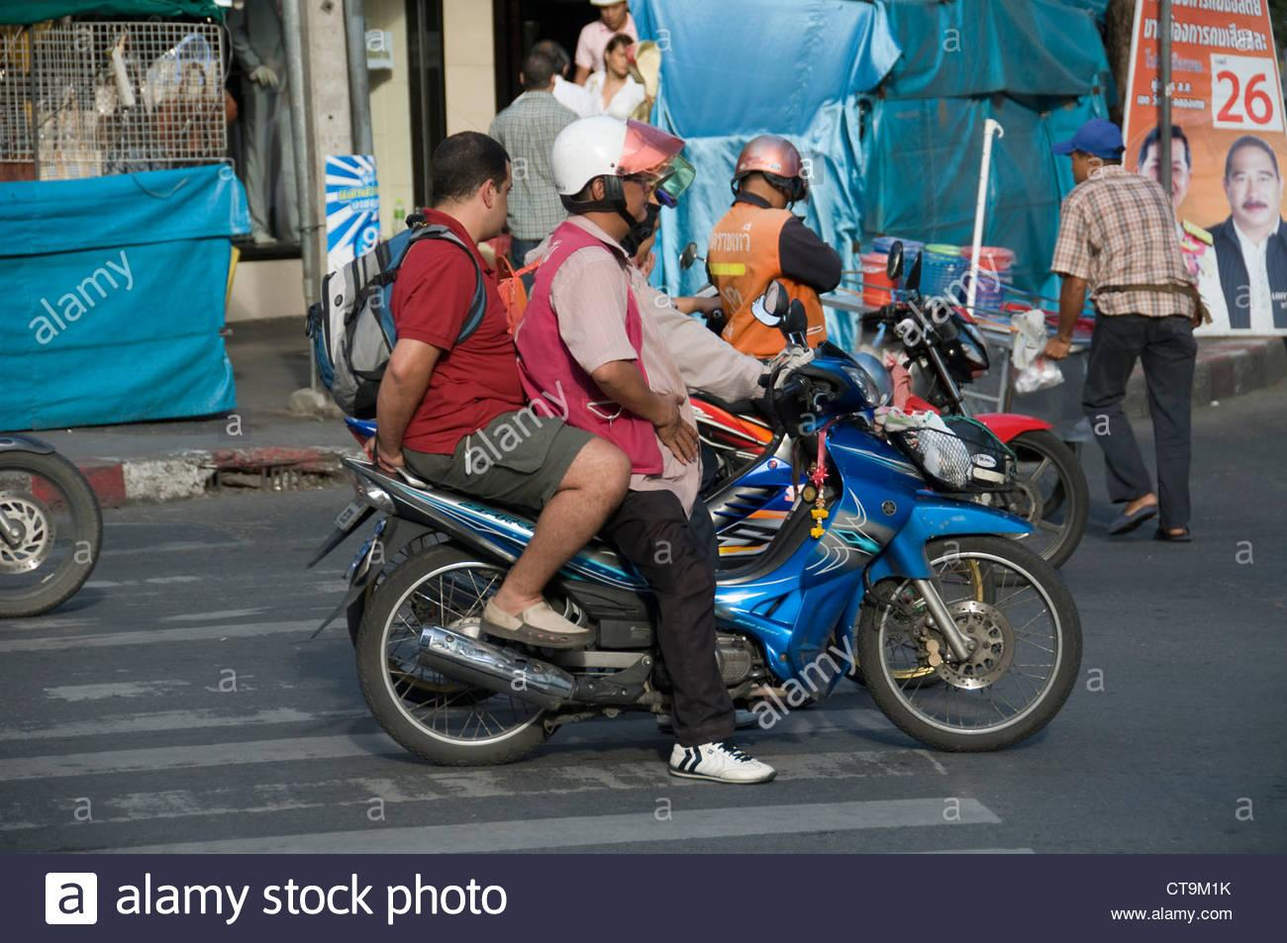helmet: (543, 115, 691, 265), (716, 126, 822, 204)
nohelmet: (412, 119, 531, 255)
